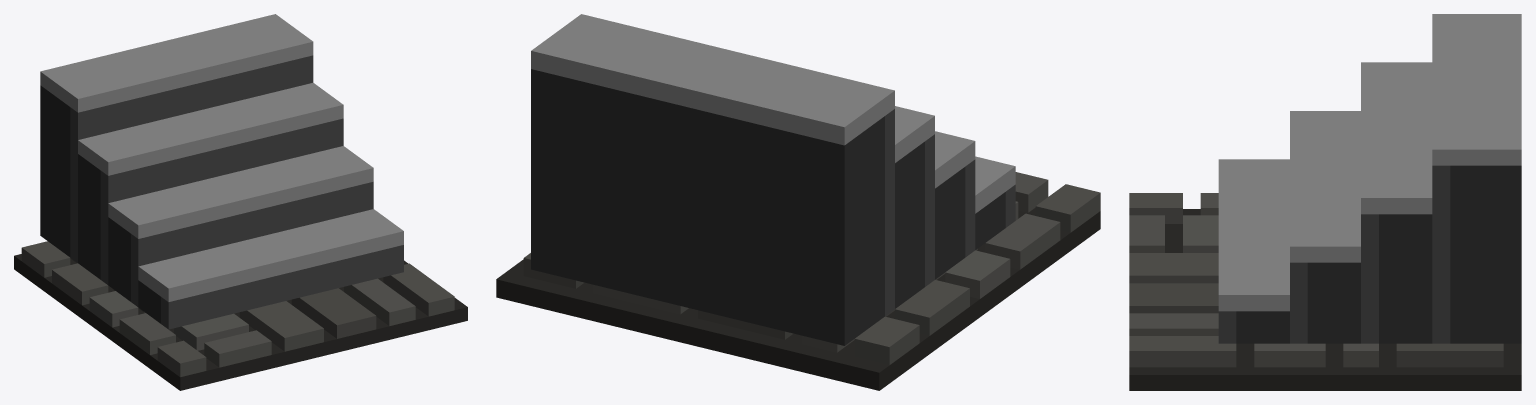
File: tile_sewers_ENTRANCE.glb
The picture shows the model from 3 angles, left to right: view 1: azimuth 30°, elevation 25°; view 2: azimuth 150°, elevation 25°; view 3: azimuth 270°, elevation 25°; orthographic projection. The views are drawn at different scales.
Parts seen in each view (by area): view 1: tile_sewers_ENTRANCE_v3; view 2: tile_sewers_ENTRANCE_v3; view 3: tile_sewers_ENTRANCE_v3.
Part boxes in pixels (bbox=[...]): tile_sewers_ENTRANCE_v3: bbox=[14, 14, 467, 390]; tile_sewers_ENTRANCE_v3: bbox=[496, 14, 1100, 390]; tile_sewers_ENTRANCE_v3: bbox=[1129, 14, 1521, 390].
Bounding box in the file's own units: 1 × 0.6364 × 1.
Materials: 1 (1 with a texture image).
